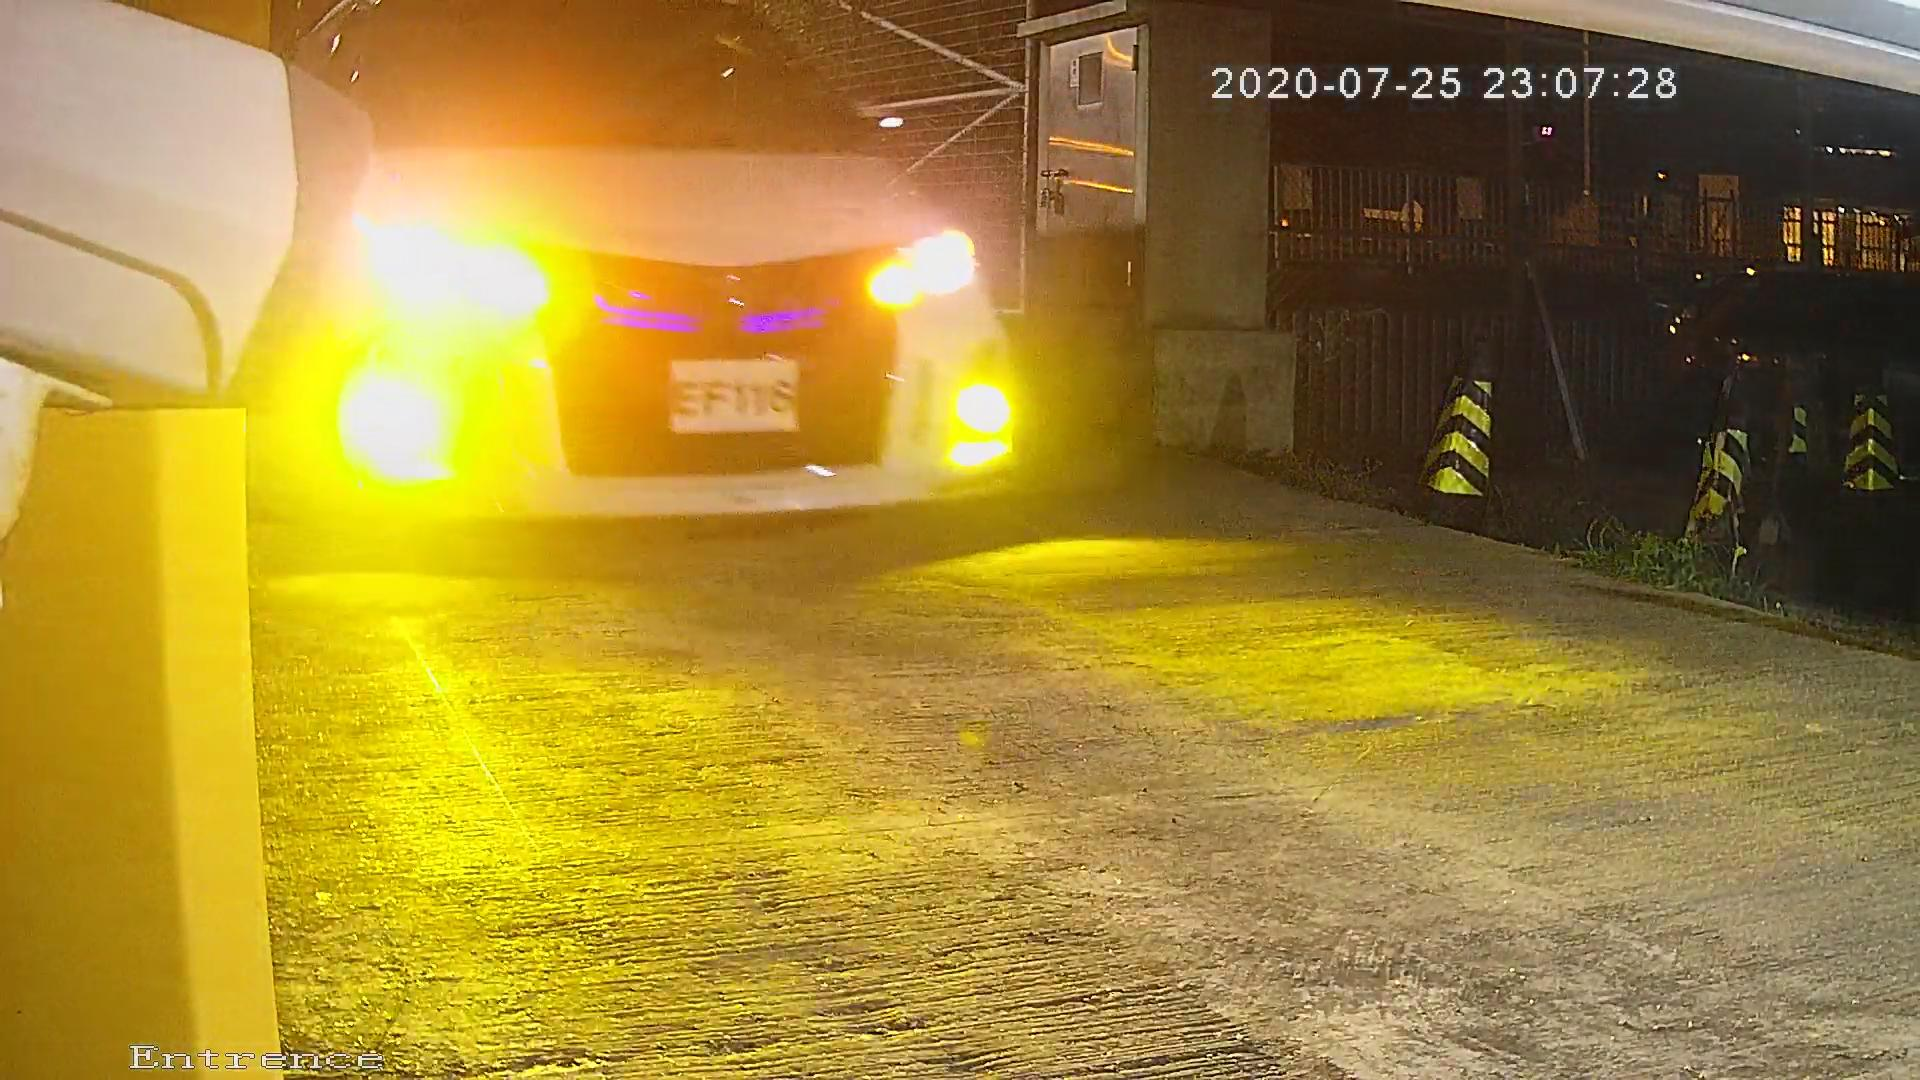License Plate: (651, 337, 822, 454)
